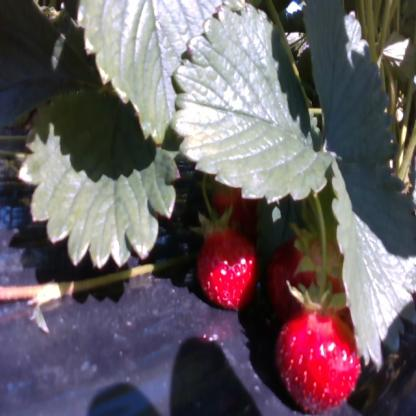ripe: (275, 293, 366, 416), (266, 225, 353, 321), (189, 232, 258, 305), (201, 166, 271, 227)
